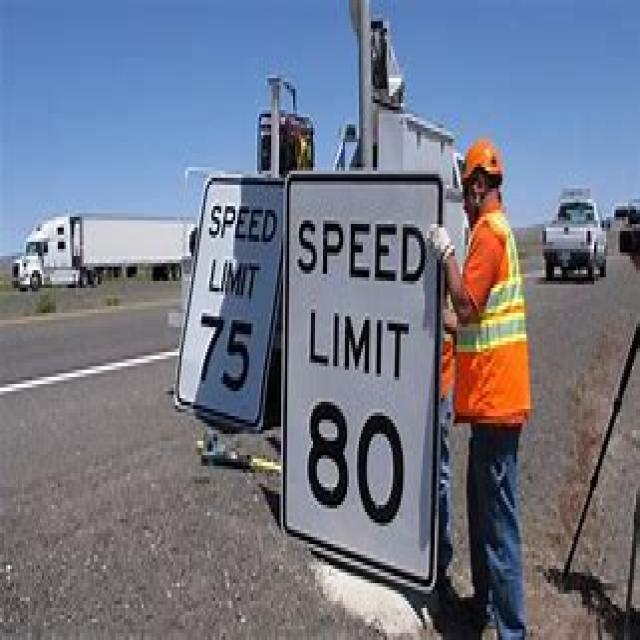speedLimit75: (181, 171, 282, 409)
speedLimit80: (292, 171, 444, 594)
